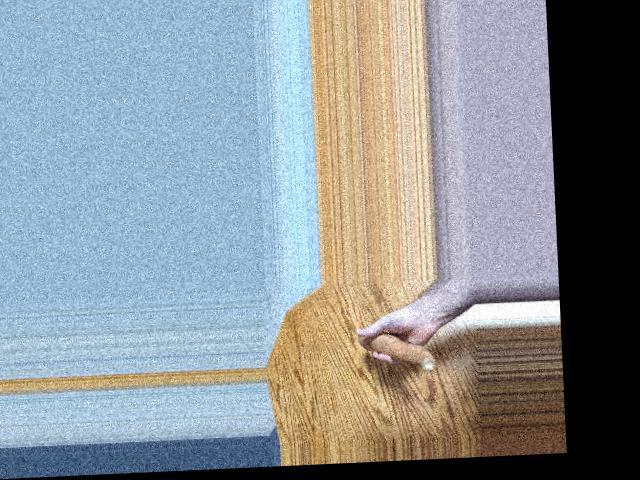sweet_potato: (359, 327, 438, 371)
